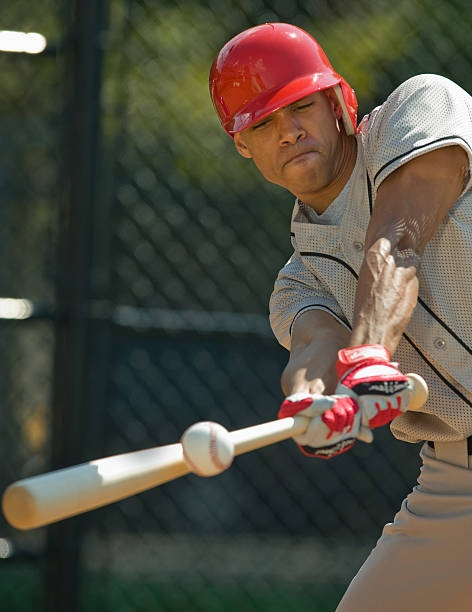bita: (7, 381, 421, 522)
